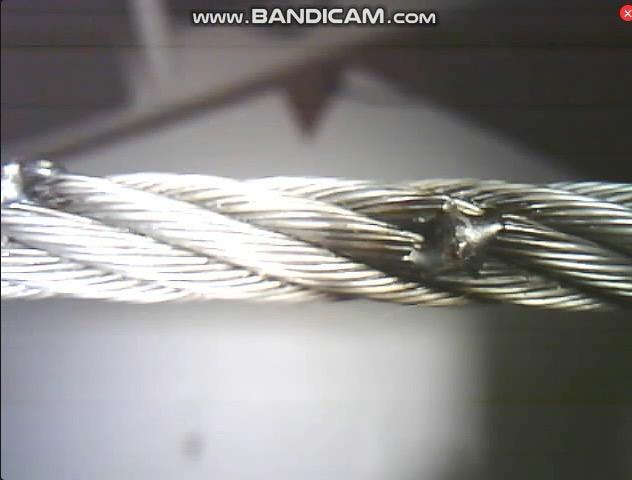thunderbolt: (395, 179, 523, 296)
